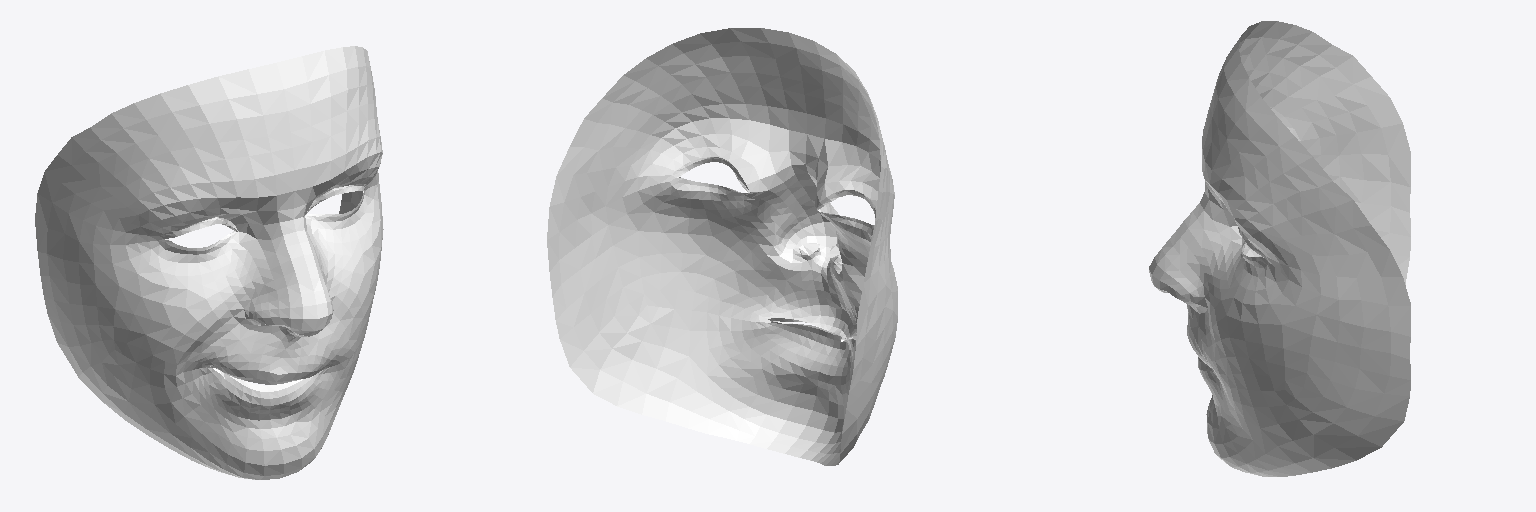
File: mouthRight.obj
3 renders of one model, left to right at view 1: azimuth 30°, elevation 25°; view 2: azimuth 150°, elevation 25°; view 3: azimuth 270°, elevation 25°, orthographic.
Parts seen in each view (by area): view 1: default; view 2: default; view 3: default.
Boxes of the visible parts, x1=… form: default: x1=35, y1=46, x2=383, y2=479; default: x1=547, y1=28, x2=897, y2=465; default: x1=1149, y1=21, x2=1410, y2=476.
Bounding box in the file's own units: 0.1447 × 0.1836 × 0.105.